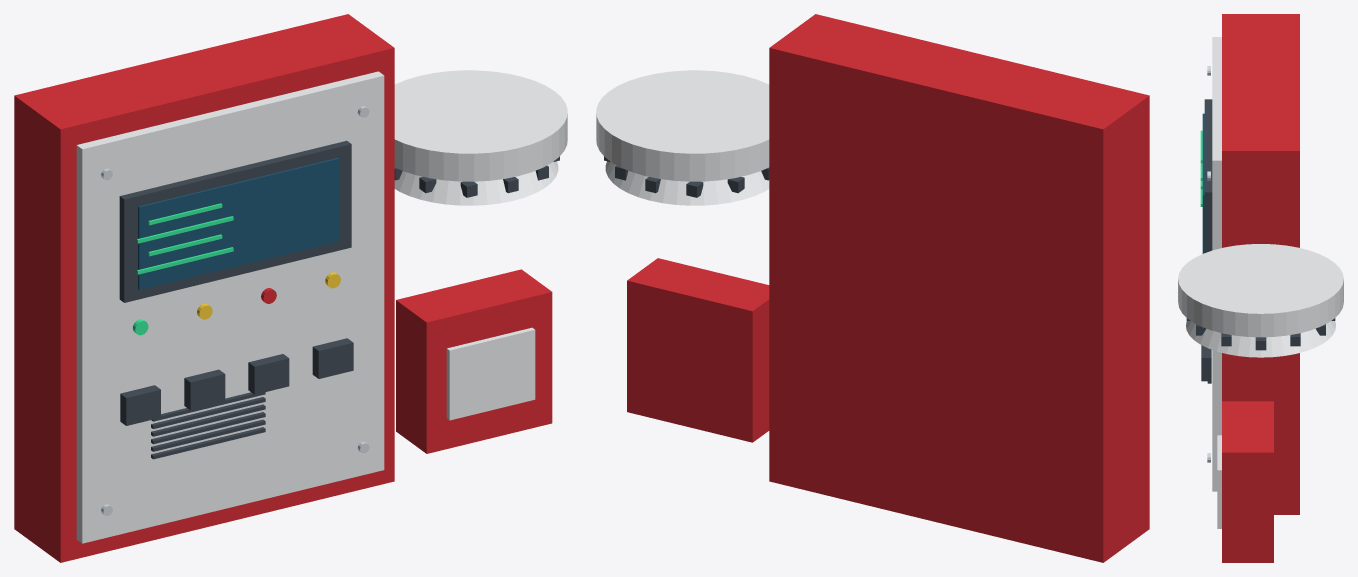
Rendered from model-fire.glb.
The picture shows the model from 3 angles, left to right: view 1: azimuth 30°, elevation 25°; view 2: azimuth 150°, elevation 25°; view 3: azimuth 270°, elevation 25°; orthographic projection. The views are drawn at different scales.
Visible parts, largest first — view 1: Front panel, Fire alarm enclosure, Manual call point, Detector base, LCD glass, Display bezel, Break glass, Control button (×4), Speaker vent (×5), Optical smoke chamber; view 2: Fire alarm enclosure, Manual call point, Detector base, Optical smoke chamber; view 3: Fire alarm enclosure, Detector base, Manual call point, Front panel, Optical smoke chamber, Display bezel, Break glass, LCD glass, Control button.
Part boxes in pixels (x1,y1,x2,y2): Front panel: [76, 71, 384, 543]; Fire alarm enclosure: [14, 14, 394, 562]; Manual call point: [396, 269, 552, 453]; Detector base: [394, 70, 567, 181]; LCD glass: [138, 158, 339, 289]; Display bezel: [119, 140, 351, 302]; Break glass: [446, 327, 535, 420]; Control button (×4): [120, 338, 353, 425]; Speaker vent (×5): [151, 397, 265, 459]; Optical smoke chamber: [394, 161, 558, 205]; Fire alarm enclosure: [769, 14, 1149, 562]; Manual call point: [627, 258, 769, 442]; Detector base: [596, 70, 769, 181]; Optical smoke chamber: [605, 161, 769, 205]; Fire alarm enclosure: [1222, 14, 1299, 514]; Detector base: [1178, 244, 1343, 337]; Manual call point: [1222, 401, 1273, 562]; Front panel: [1212, 37, 1221, 491]; Optical smoke chamber: [1186, 321, 1335, 357]; Display bezel: [1204, 99, 1212, 252]; Break glass: [1217, 435, 1221, 528]; LCD glass: [1202, 113, 1204, 253]; Control button: [1201, 345, 1211, 381].
Size of the model in its own units: 1.93 by 1.55 by 0.64.
